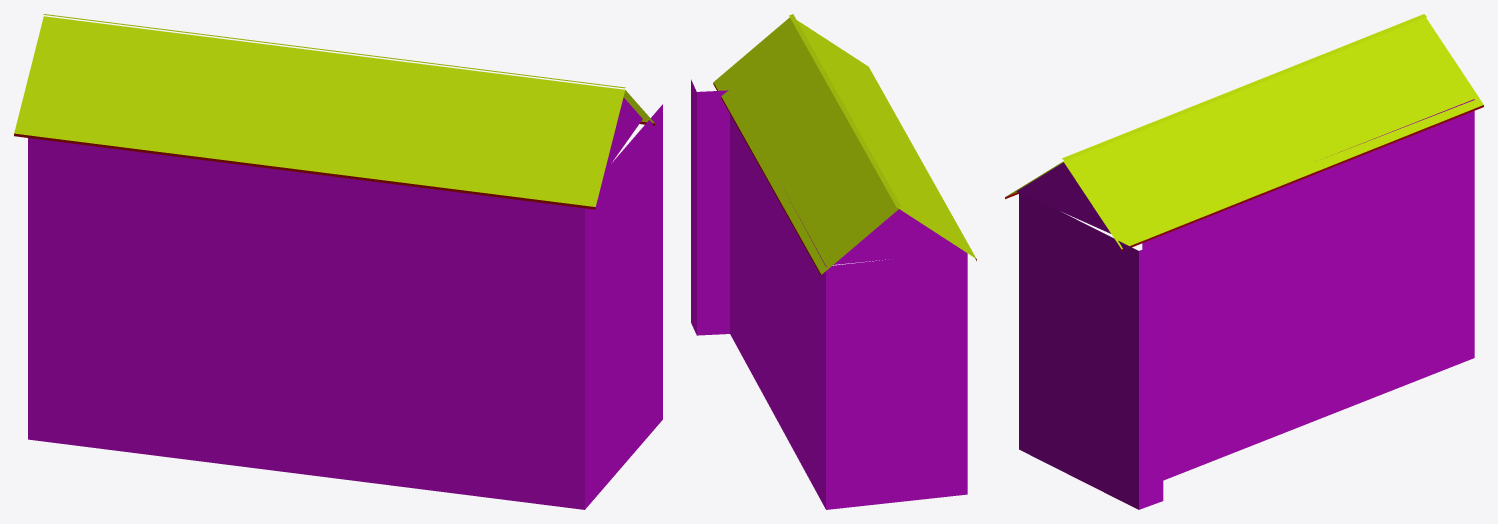
The model's file is bgj_5.glb.
3 renders of one model, left to right at view 1: azimuth 30°, elevation 25°; view 2: azimuth 150°, elevation 25°; view 3: azimuth 270°, elevation 25°, orthographic. The views are drawn at different scales.
Parts seen in each view (by area): view 1: bgj_5; view 2: bgj_5; view 3: bgj_5.
Boxes of the visible parts, x1,y1,x2,y2 form: bgj_5: (14,14,662,509); bgj_5: (691,14,976,509); bgj_5: (1005,14,1483,509).
Bounding box in the file's own units: 24.19 × 17.54 × 23.99.
